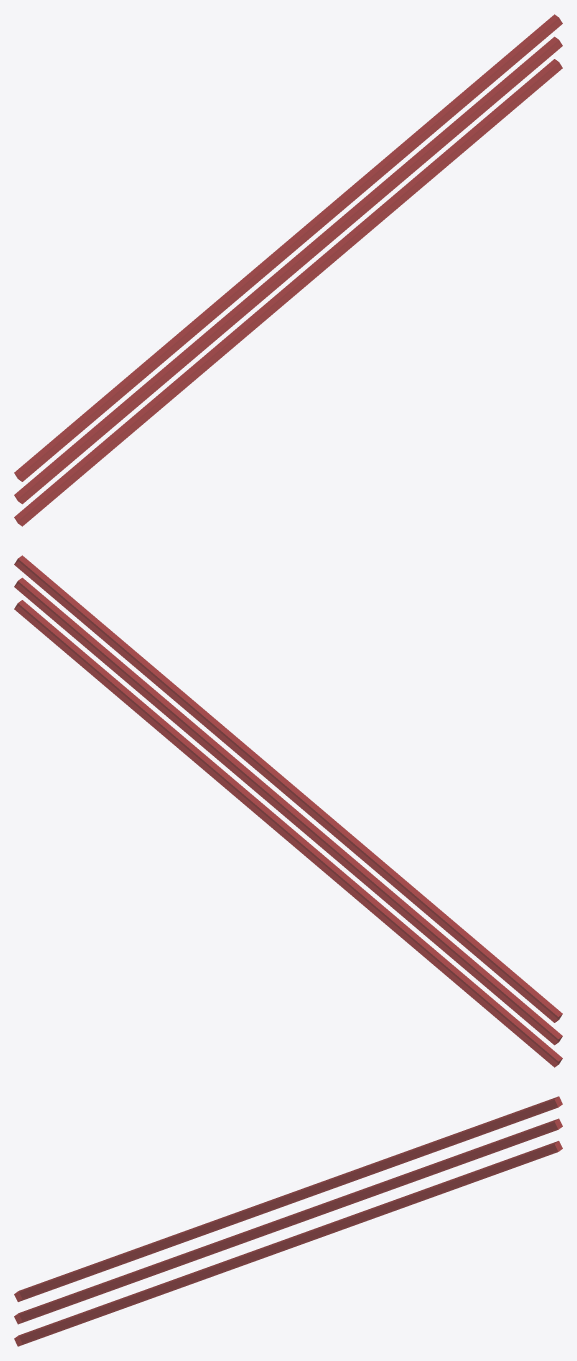
Rendered from Lvl_020.fbx.
The picture shows the model from 3 angles, top to bottom: view 1: azimuth 30°, elevation 25°; view 2: azimuth 150°, elevation 25°; view 3: azimuth 330°, elevation 25°; orthographic projection.
Visible parts, largest first — view 1: pCube74, pCube2, pCube75; view 2: pCube74, pCube2, pCube75; view 3: pCube2, pCube75, pCube74.
Part boxes in pixels (x1,y1,x2,y2): pCube74: (14,36,562,504); pCube2: (14,14,562,481); pCube75: (14,59,562,526); pCube74: (14,577,562,1045); pCube2: (14,555,562,1022); pCube75: (14,600,562,1067); pCube2: (14,1096,562,1301); pCube75: (14,1141,562,1346); pCube74: (14,1118,562,1324).
Bounding box in the file's own units: 1745 × 1158 × 25.
